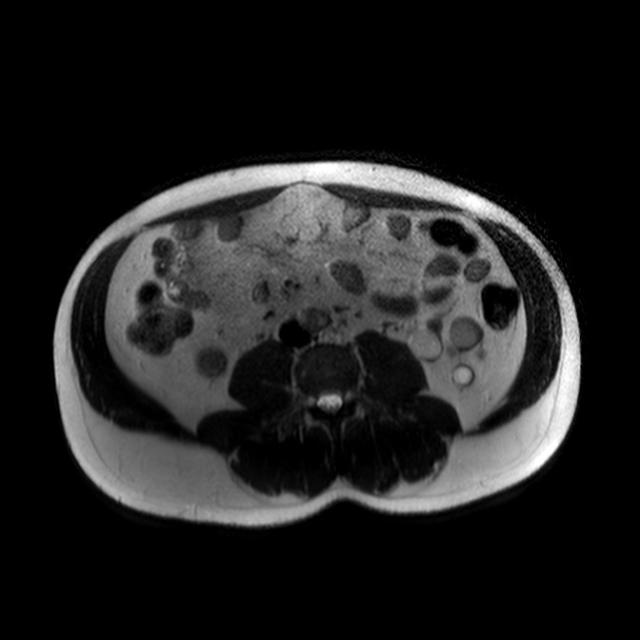sag: (193, 343, 225, 385)
sol: (447, 317, 484, 358), (409, 329, 443, 360), (451, 365, 472, 386)
